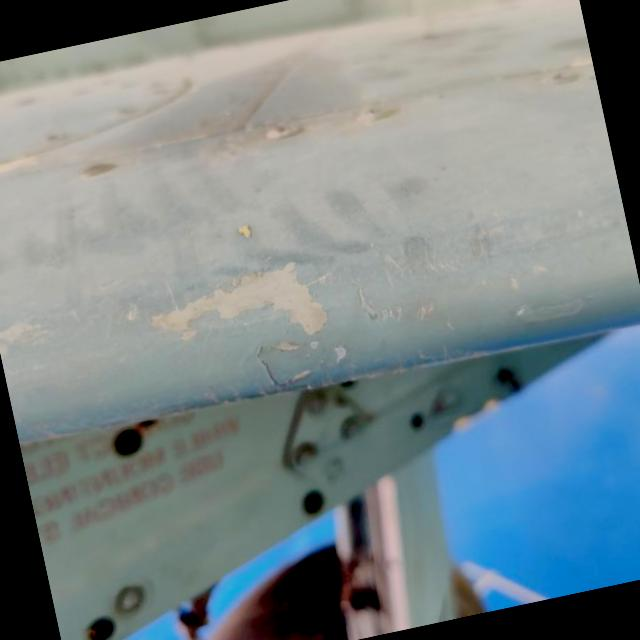paint-off: (136, 245, 338, 376)
